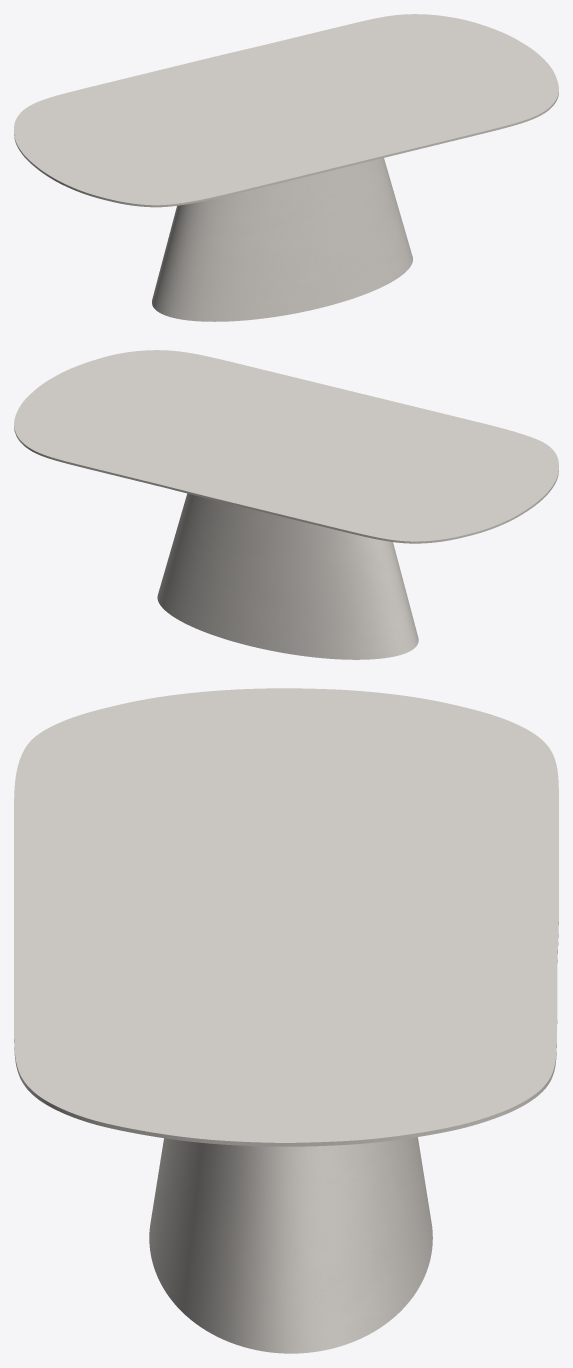
The model's file is pearlwhite_oval_facet_eqone.glb.
3 renders of one model, top to bottom at view 1: azimuth 30°, elevation 25°; view 2: azimuth 150°, elevation 25°; view 3: azimuth 270°, elevation 25°, orthographic. The views are drawn at different scales.
Visible parts, largest first — view 1: facet_oval, eqone; view 2: facet_oval, eqone; view 3: facet_oval, eqone.
Part boxes in pixels (bbox=[...]): facet_oval: bbox=[14, 14, 558, 207]; eqone: bbox=[152, 158, 412, 321]; facet_oval: bbox=[14, 350, 558, 543]; eqone: bbox=[157, 493, 418, 659]; facet_oval: bbox=[14, 688, 558, 1146]; eqone: bbox=[149, 1137, 432, 1353].
Size of the model in its own units: 7.5 by 2.5 by 3.8.
Materials: 1 (1 with a texture image).
